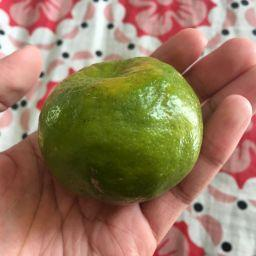Unripe: (37, 59, 203, 202)
